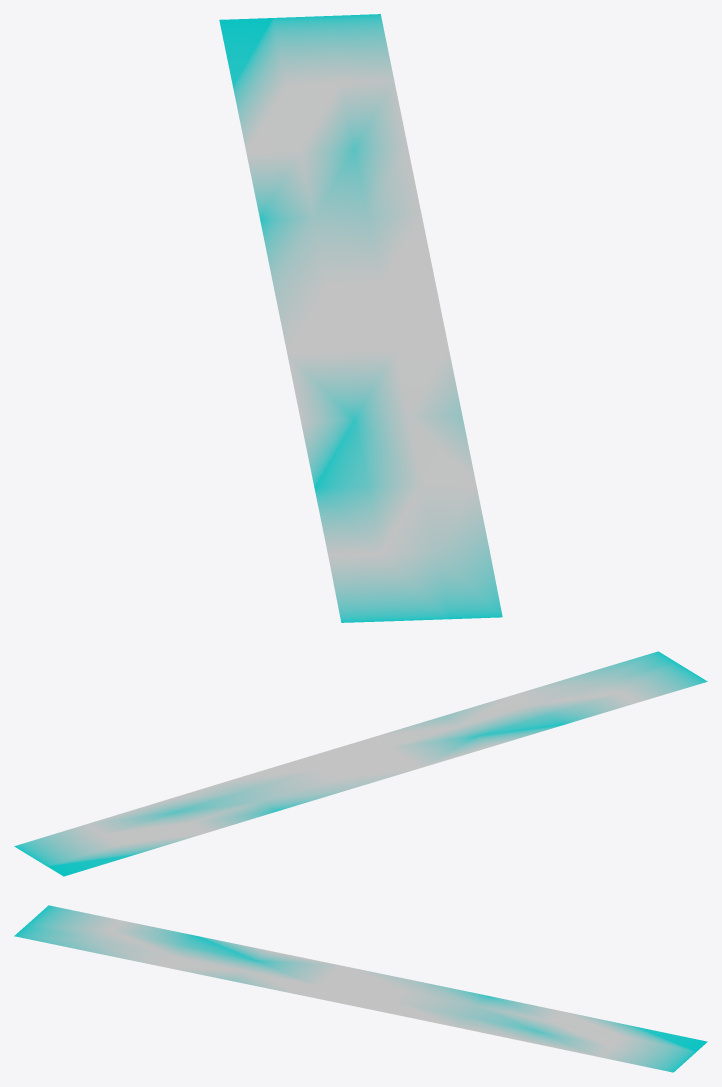
The picture shows the model from 3 angles, top to bottom: view 1: azimuth 30°, elevation 25°; view 2: azimuth 150°, elevation 25°; view 3: azimuth 270°, elevation 25°; orthographic projection. The views are drawn at different scales.
Visible parts, largest first — view 1: SpaceCenter_Long3_GenerateRoad_Asphalt_PCGMesh_Decal_Mesh_x1; view 2: SpaceCenter_Long3_GenerateRoad_Asphalt_PCGMesh_Decal_Mesh_x1; view 3: SpaceCenter_Long3_GenerateRoad_Asphalt_PCGMesh_Decal_Mesh_x1.
Boxes of the visible parts, x1=… form: SpaceCenter_Long3_GenerateRoad_Asphalt_PCGMesh_Decal_Mesh_x1: x1=219, y1=14, x2=502, y2=622; SpaceCenter_Long3_GenerateRoad_Asphalt_PCGMesh_Decal_Mesh_x1: x1=14, y1=651, x2=707, y2=876; SpaceCenter_Long3_GenerateRoad_Asphalt_PCGMesh_Decal_Mesh_x1: x1=14, y1=905, x2=707, y2=1072.
Size of the model in its own units: 308 by 170 by 2.61.
